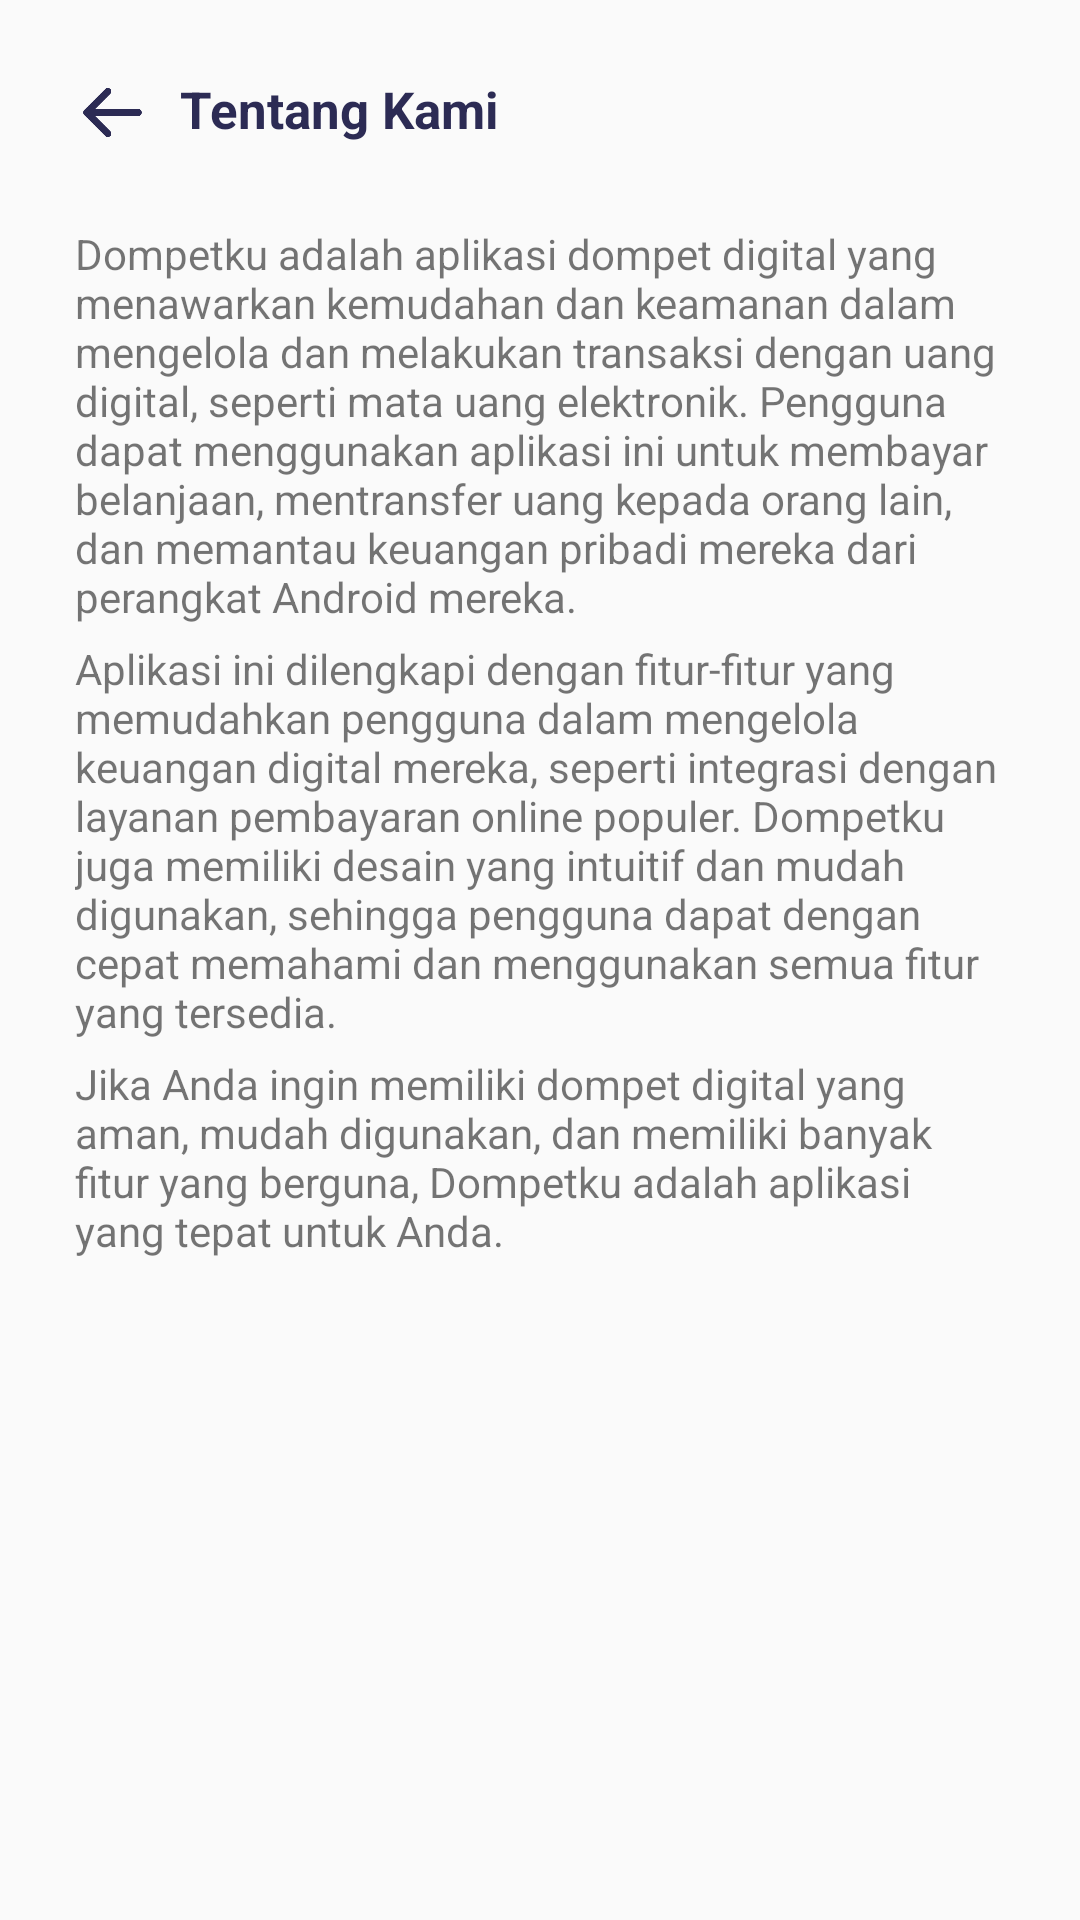

Named icons in this screenshot (1080px×1920px) and their bounding boxes, [x1, y1, x2, y2]:
arrow back: [83, 88, 142, 137]
